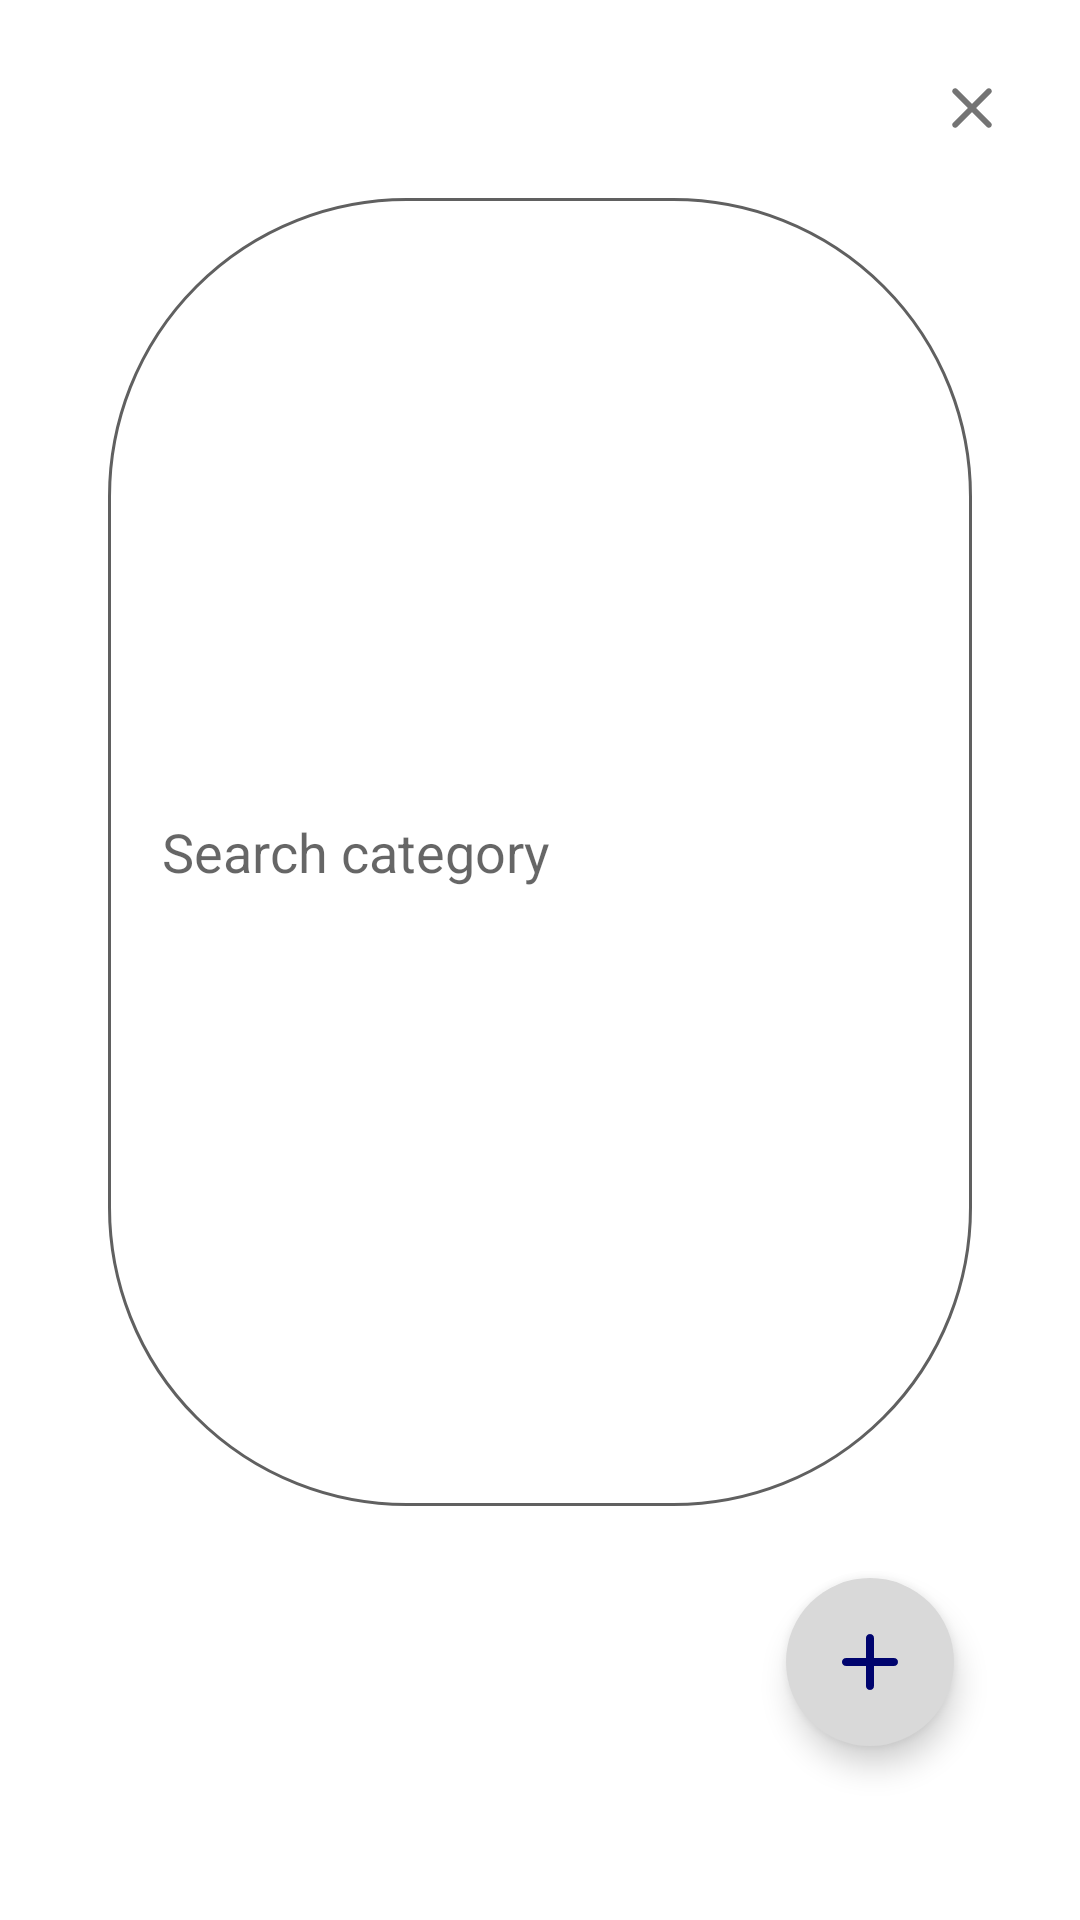

Locate icon controls on the screen. Image size 1080 × 1920, boxes as (x1, y1, x2, y2).
add: (786, 1578, 954, 1746)
cancel: (952, 88, 992, 128)
